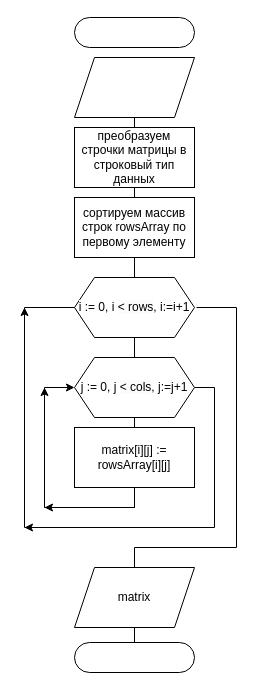
Some shapes in this 255 by 690 pixel diagram are drawn without their labels. The centre of each missing label's shape, as x and y in pixels:
n, m, matrix: (134,87)
конец: (134,657)
начало: (134,32)
